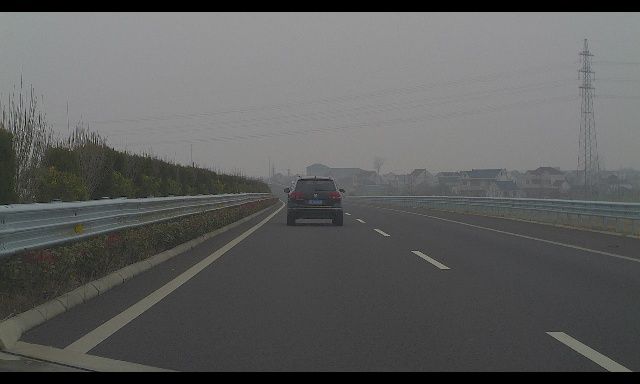car: (284, 175, 345, 226)
